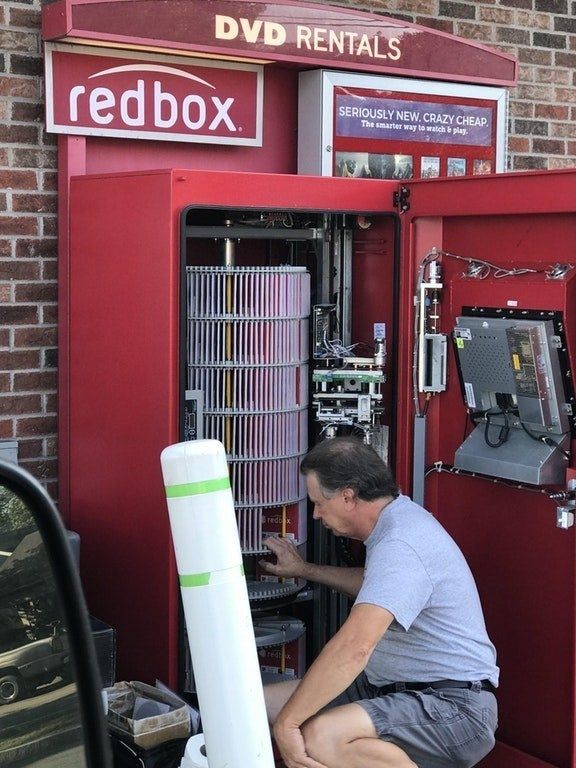not a gesture sign: (70, 9, 478, 288)
